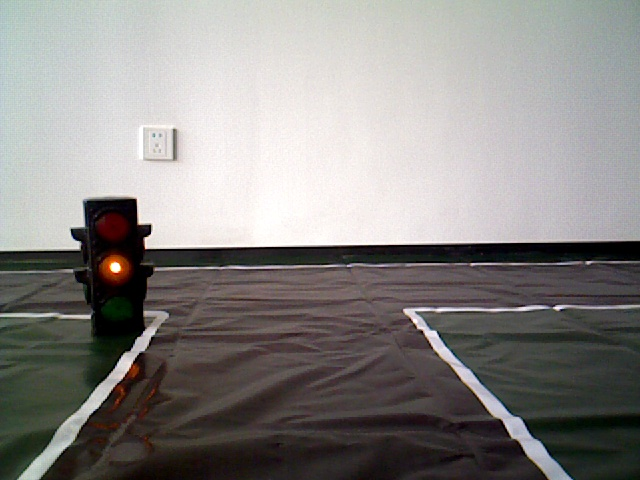yellow: (83, 196, 145, 328)
